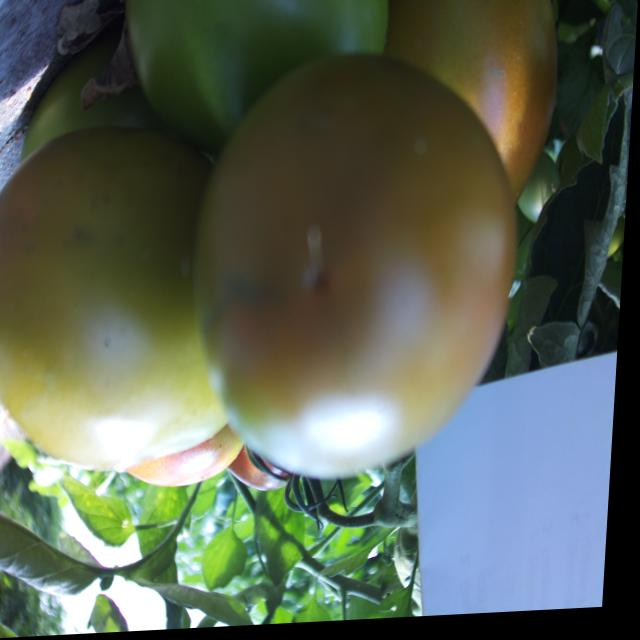sari: (155, 48, 533, 498)
